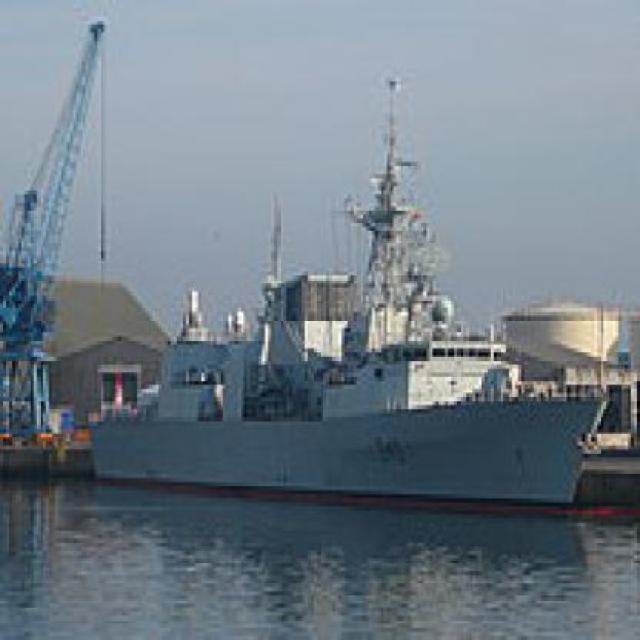warship2: (77, 98, 605, 519)
